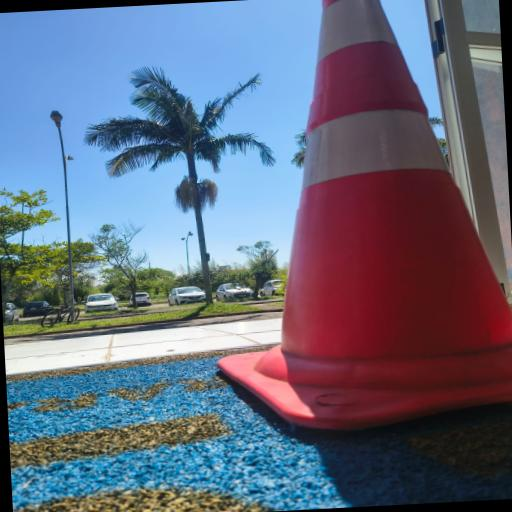cone: (264, 0, 512, 412)
